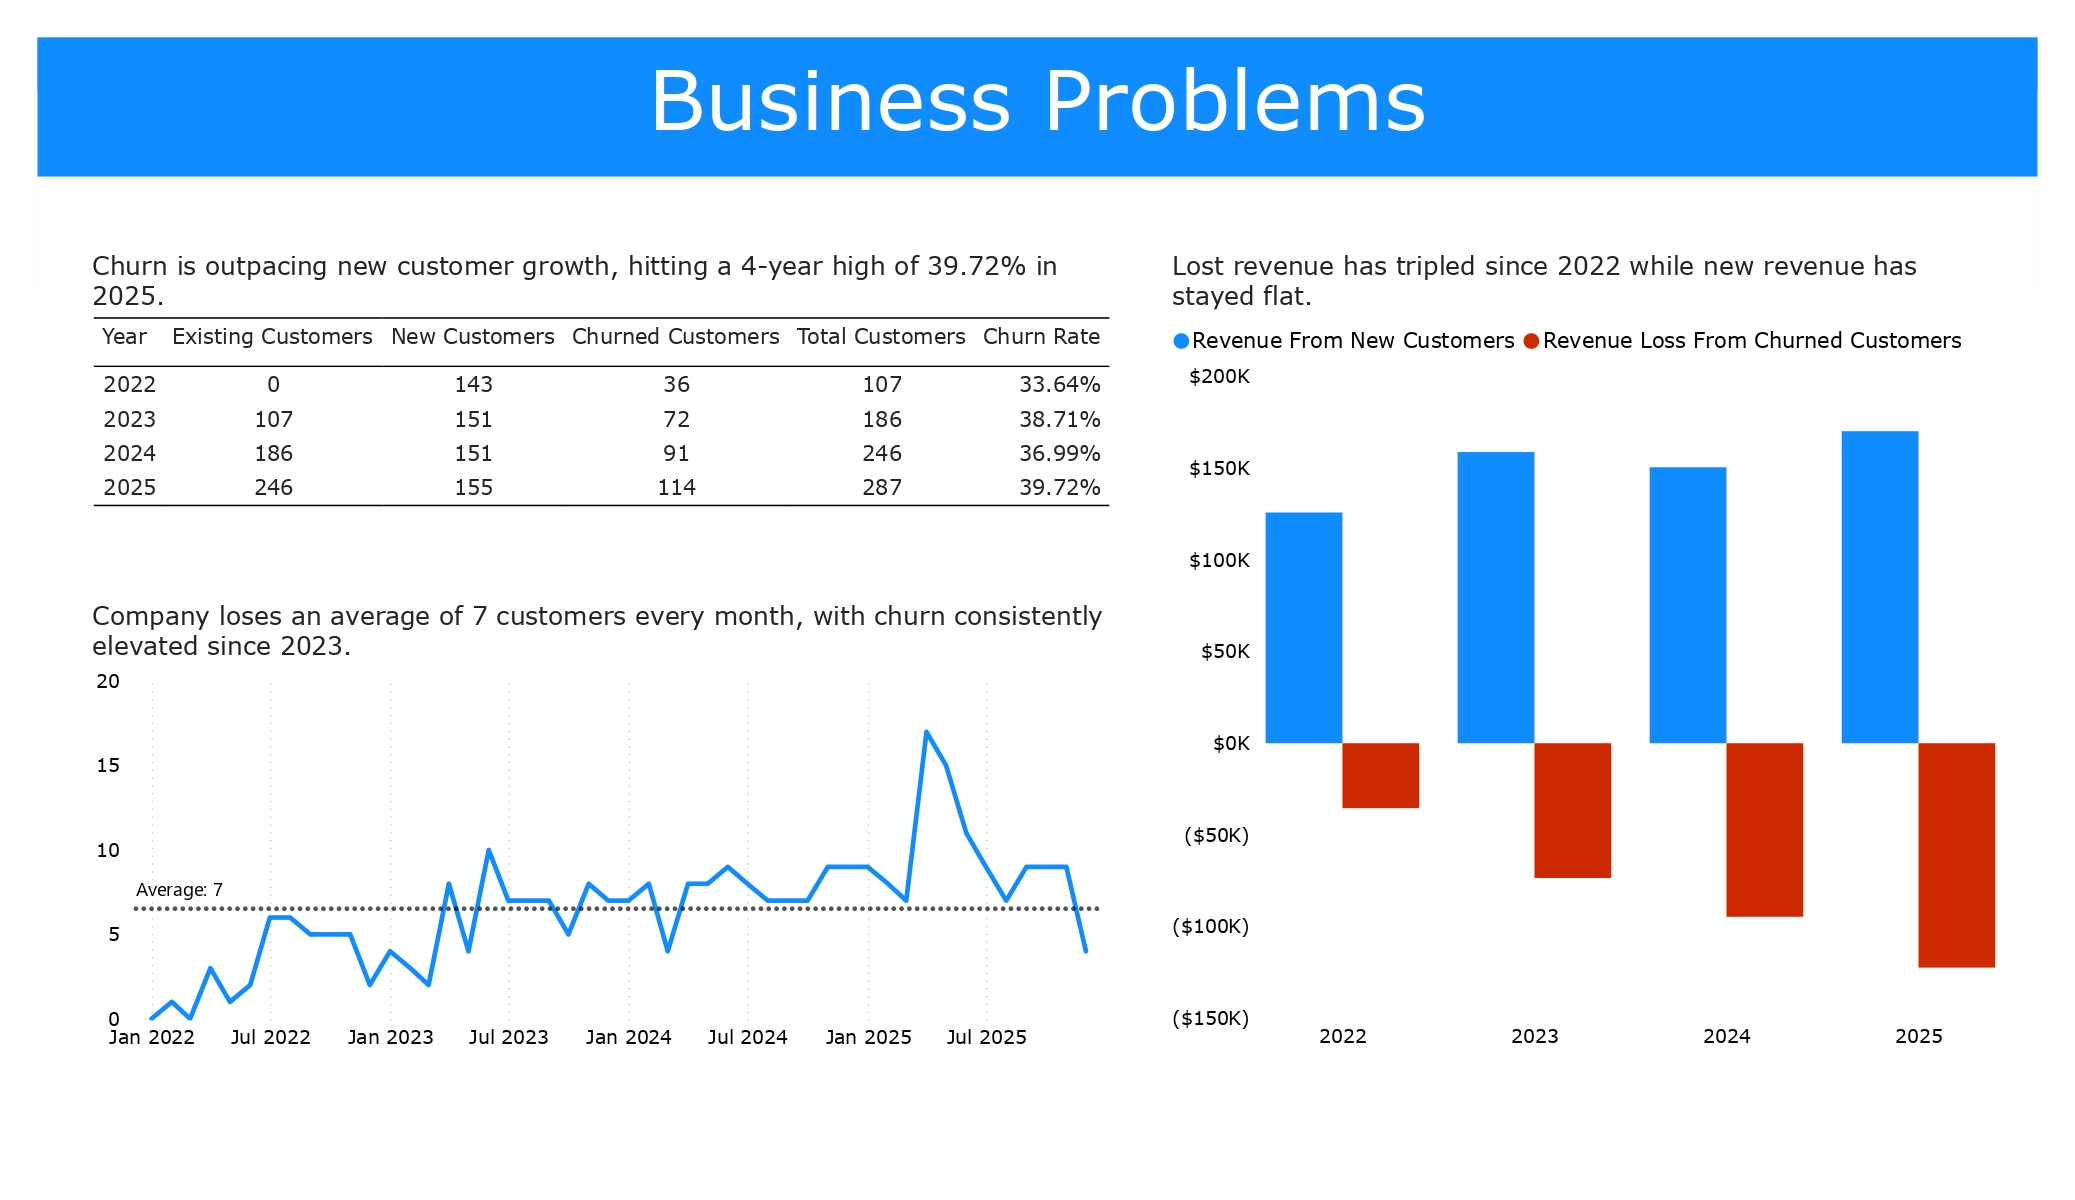

The dashboard page shown, as its layout file describes it:
{"tool":"powerbi","page":{"name":"Churned Probelms","canvas":[1280,720],"ordinal":0},"visuals":[{"type":"tableEx","title":"Churn is outpacing new customer growth, hitting a 4-year high of 39.72% in 2025.","fields":{"Values":["monthly_revenue.month.Variation.Date Hierarchy.Year","monthly_revenue.Existing Customers","Sum(monthly_revenue.new_customers)","Sum(monthly_revenue.churned_customers)","monthly_revenue.Total customers","monthly_revenue.Churn Rate New"]},"box":[30,136.2,671.5,182.3],"z":0},{"type":"lineChart","title":"Company loses an average of 7 customers every month, with churn consistently elevated since 2023.","fields":{"Category":["monthly_revenue.month.Variation.Date Hierarchy.Year","monthly_revenue.month.Variation.Date Hierarchy.Quarter","monthly_revenue.month.Variation.Date Hierarchy.Month","monthly_revenue.month.Variation.Date Hierarchy.Day"],"Y":["Sum(monthly_revenue.churned_customers)"]},"box":[30,360,671.5,296.5],"z":1000},{"type":"clusteredColumnChart","title":"Lost revenue has tripled since 2022 while new revenue has stayed flat.","fields":{"Category":["monthly_revenue.month.Variation.Date Hierarchy.Year","monthly_revenue.month.Variation.Date Hierarchy.Quarter","monthly_revenue.month.Variation.Date Hierarchy.Month","monthly_revenue.month.Variation.Date Hierarchy.Day"],"Y":["Sum(monthly_revenue.new mrr)","monthly_revenue.churn mrr num"]},"box":[721.2,136.2,536.5,520.4],"z":2000},{"type":"textbox","box":[0,0,1279.6,88.8],"z":3000}]}

Visuals, with their boxes on the page's 1280x720 design canvas (x1, y1, x2, y2). These are canvas units, not pixel positions in the 2075x1200 screenshot, which may show the page scaled, cropped or inside an application window:
"Churn is outpacing new customer growth, hitting a 4-year high of 39.72% in 2025." tableEx: {"left": 30, "top": 136, "right": 702, "bottom": 318}
"Company loses an average of 7 customers every month, with churn consistently elevated since 2023." lineChart: {"left": 30, "top": 360, "right": 702, "bottom": 656}
"Lost revenue has tripled since 2022 while new revenue has stayed flat." clusteredColumnChart: {"left": 721, "top": 136, "right": 1258, "bottom": 657}
textbox: {"left": 0, "top": 0, "right": 1280, "bottom": 89}
